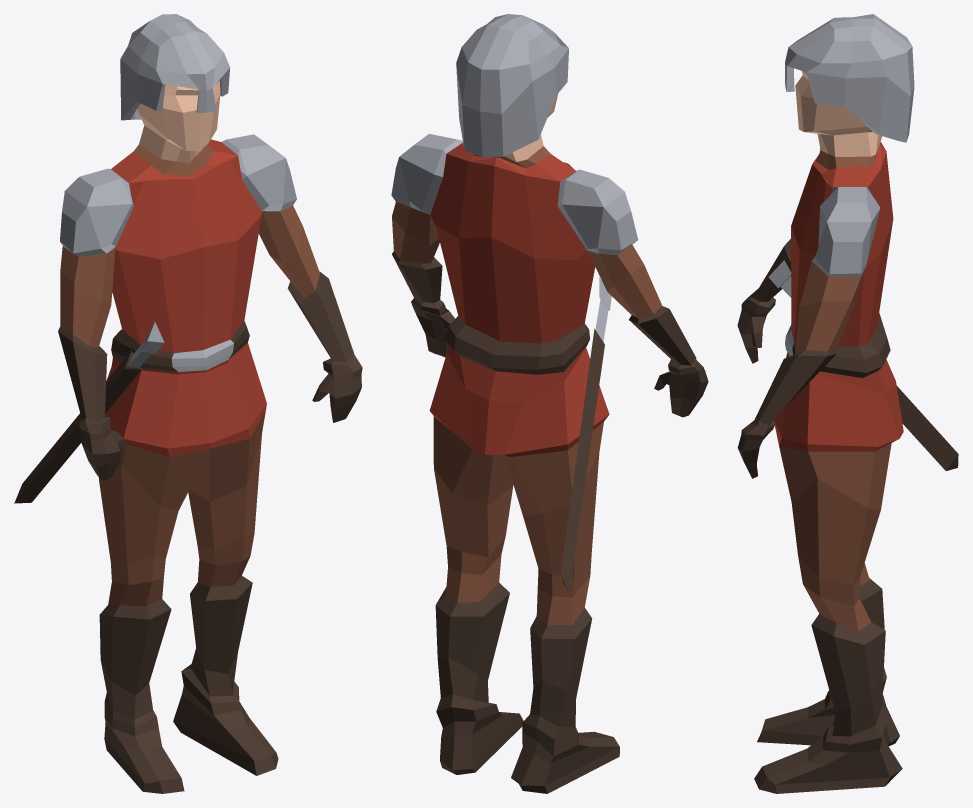
The model's file is guard_model.fbx.
3 views of the same model, side by side, from view 1: azimuth 30°, elevation 25°; view 2: azimuth 150°, elevation 25°; view 3: azimuth 270°, elevation 25° (orthographic). The views are drawn at different scales.
Parts seen in each view (by area): view 1: guard.002; view 2: guard.002; view 3: guard.002.
Part boxes in pixels (box(x1,y1,x2,y2)): guard.002: box(14, 14, 362, 793); guard.002: box(391, 14, 708, 793); guard.002: box(737, 14, 958, 793).
Size of the model in its own units: 202 by 504 by 136.
